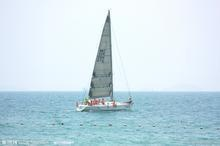fanchuan: (74, 8, 134, 114)
